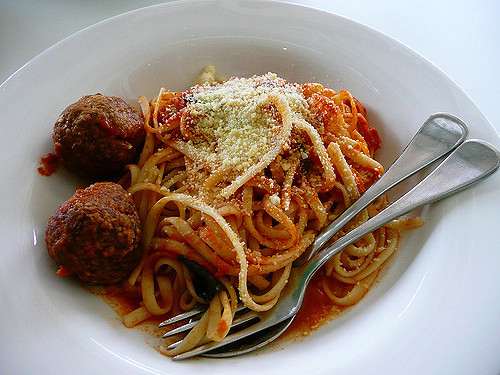meatballs: (42, 183, 139, 273), (55, 88, 142, 167)
plain spaghetti: (161, 72, 346, 295)
